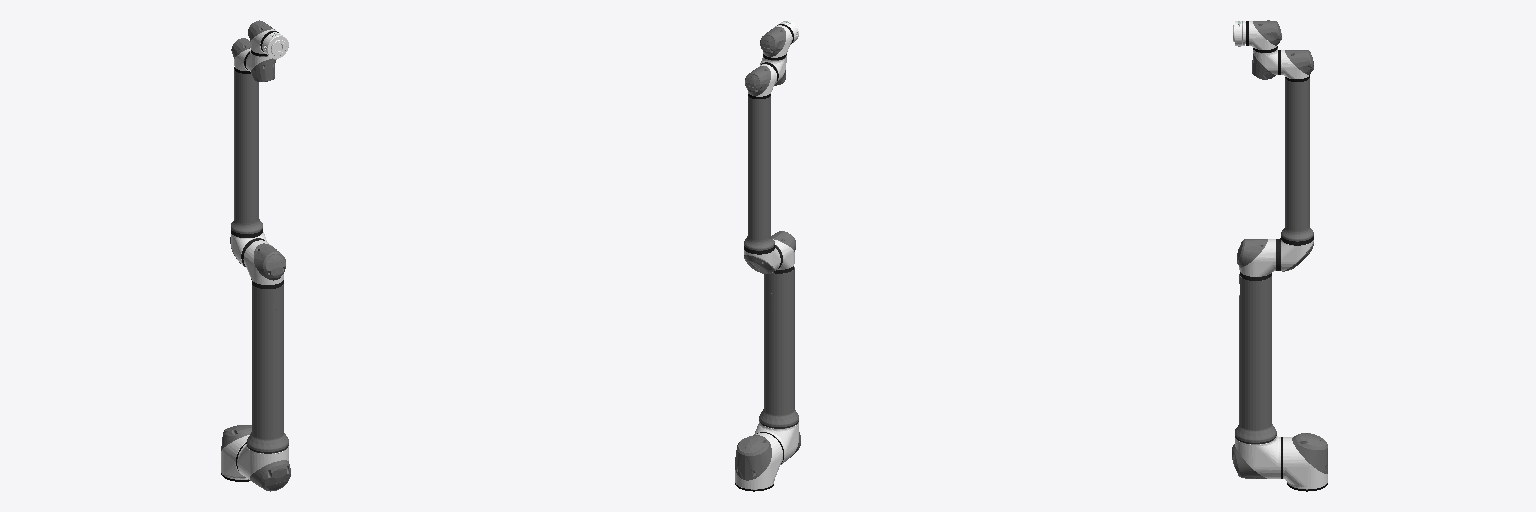
URDF robot description (rb6_1700e_u):
<?xml version="1.0" ?>
<!-- =================================================================================== -->
<!-- |    This document was autogenerated by xacro from rb6_1700e_u.urdf.xacro         | -->
<!-- |    EDITING THIS FILE BY HAND IS NOT RECOMMENDED                                 | -->
<!-- =================================================================================== -->
<robot name="rb6_1700e_u">
  <link name="link0">
    <visual>
      <geometry>
        <mesh filename="package://rbpodo_description/meshes/rb6_1700e_u/visual/link0.dae"/>
      </geometry>
    </visual>
    <collision>
      <geometry>
        <mesh filename="package://rbpodo_description/meshes/rb6_1700e_u/collision/link0.stl"/>
      </geometry>
    </collision>
  </link>
  <link name="link1">
    <visual>
      <geometry>
        <mesh filename="package://rbpodo_description/meshes/rb6_1700e_u/visual/link1.dae"/>
      </geometry>
    </visual>
    <collision>
      <geometry>
        <mesh filename="package://rbpodo_description/meshes/rb6_1700e_u/collision/link1.stl"/>
      </geometry>
    </collision>
    <inertial>
      <origin rpy="0 0 0" xyz="0.000022 -0.008087 -0.042227"/>
      <mass value="8.356"/>
      <inertia ixx="0.027492394" ixy="-5.675e-06" ixz="-1.0003e-05" iyy="0.027770576" iyz="0.003088853" izz="0.026245784"/>
    </inertial>
  </link>
  <link name="link2">
    <visual>
      <geometry>
        <mesh filename="package://rbpodo_description/meshes/rb6_1700e_u/visual/link2.dae"/>
      </geometry>
    </visual>
    <collision>
      <geometry>
        <mesh filename="package://rbpodo_description/meshes/rb6_1700e_u/collision/link2.stl"/>
      </geometry>
    </collision>
    <inertial>
      <origin rpy="0 0 0" xyz="-0.000012 0.030051 0.30427"/>
      <mass value="16.542"/>
      <inertia ixx="2.064684886" ixy="-1.2583e-05" ixz="-7.8349e-05" iyy="2.087602443" iyz="0.034272843" izz="0.054672987"/>
    </inertial>
  </link>
  <link name="link3">
    <visual>
      <geometry>
        <mesh filename="package://rbpodo_description/meshes/rb6_1700e_u/visual/link3.dae"/>
      </geometry>
    </visual>
    <collision>
      <geometry>
        <mesh filename="package://rbpodo_description/meshes/rb6_1700e_u/collision/link3.stl"/>
      </geometry>
    </collision>
    <inertial>
      <origin rpy="0 0 0" xyz="-0.000052 0.139099 0.433734"/>
      <mass value="6.431"/>
      <inertia ixx="0.618762051" ixy="1.0397e-05" ixz="5.105e-05" iyy="0.617886626" iyz="0.007702789" izz="0.012854901"/>
    </inertial>
  </link>
  <link name="link4">
    <visual>
      <geometry>
        <mesh filename="package://rbpodo_description/meshes/rb6_1700e_u/visual/link4.dae"/>
      </geometry>
    </visual>
    <collision>
      <geometry>
        <mesh filename="package://rbpodo_description/meshes/rb6_1700e_u/collision/link4.stl"/>
      </geometry>
    </collision>
    <inertial>
      <origin rpy="0 0 0" xyz="0.000124 -0.113978 0.026418"/>
      <mass value="2.066"/>
      <inertia ixx="0.002724762" ixy="-3.11e-07" ixz="1.3522e-05" iyy="0.002726881" iyz="0.000142385" izz="0.002178559"/>
    </inertial>
  </link>
  <link name="link5">
    <visual>
      <geometry>
        <mesh filename="package://rbpodo_description/meshes/rb6_1700e_u/visual/link5.dae"/>
      </geometry>
    </visual>
    <collision>
      <geometry>
        <mesh filename="package://rbpodo_description/meshes/rb6_1700e_u/collision/link5.stl"/>
      </geometry>
    </collision>
    <inertial>
      <origin rpy="0 0 0" xyz="-0.000124 -0.026397 0.113946"/>
      <mass value="2.065"/>
      <inertia ixx="0.002721032" ixy="1.3518e-05" ixz="3.87e-07" iyy="0.002175641" iyz="0.000139695" izz="0.002724543"/>
    </inertial>
  </link>
  <link name="link6">
    <visual>
      <geometry>
        <mesh filename="package://rbpodo_description/meshes/rb6_1700e_u/visual/link6.dae"/>
      </geometry>
    </visual>
    <collision>
      <geometry>
        <mesh filename="package://rbpodo_description/meshes/rb6_1700e_u/collision/link6.stl"/>
      </geometry>
    </collision>
    <inertial>
      <origin rpy="0 0 0" xyz="-0.000208 -0.092542 -0.000292"/>
      <mass value="0.406"/>
      <inertia ixx="0.000345291" ixy="5.72e-07" ixz="6.61e-07" iyy="0.000532783" iyz="-5.4e-08" izz="0.000339905"/>
    </inertial>
  </link>
  <link name="tcp"/>
  <joint name="base" type="revolute">
    <origin rpy="0 0 0" xyz="0 0 0.197"/>
    <parent link="link0"/>
    <child link="link1"/>
    <axis xyz="0 0 1"/>
    <limit effort="10" lower="-3.14" upper="3.14" velocity="3.14"/>
  </joint>
  <joint name="shoulder" type="revolute">
    <origin rpy="0 0 0" xyz="0 -0.1875 0"/>
    <parent link="link1"/>
    <child link="link2"/>
    <axis xyz="0 1 0"/>
    <limit effort="10" lower="-3.14" upper="3.14" velocity="3.14"/>
  </joint>
  <joint name="elbow" type="revolute">
    <origin rpy="0 0 0" xyz="0 0 0.8127"/>
    <parent link="link2"/>
    <child link="link3"/>
    <axis xyz="0 1 0"/>
    <limit effort="10" lower="-3.14" upper="3.14" velocity="3.14"/>
  </joint>
  <joint name="wrist1" type="revolute">
    <origin rpy="0 0 0" xyz="0 0.1514 0.77015"/>
    <parent link="link3"/>
    <child link="link4"/>
    <axis xyz="0 1 0"/>
    <limit effort="10" lower="-3.14" upper="3.14" velocity="3.14"/>
  </joint>
  <joint name="wrist2" type="revolute">
    <origin rpy="0 0 0" xyz="0 -0.11715 0"/>
    <parent link="link4"/>
    <child link="link5"/>
    <axis xyz="0 0 1"/>
    <limit effort="10" lower="-3.14" upper="3.14" velocity="3.14"/>
  </joint>
  <joint name="wrist3" type="revolute">
    <origin rpy="0 0 0" xyz="0 0 0.11715"/>
    <parent link="link5"/>
    <child link="link6"/>
    <axis xyz="0 1 0"/>
    <limit effort="10" lower="-3.14" upper="3.14" velocity="3.14"/>
  </joint>
  <joint name="tcp_joint" type="fixed">
    <origin rpy="0 0 0" xyz="0 -0.1153 0"/>
    <parent link="link6"/>
    <child link="tcp"/>
  </joint>
  <ros2_control name="RBPodoHardwareInterface" type="system">
    <hardware>
      <plugin>rbpodo_hardware/RBPodoHardwareInterface</plugin>
      <param name="cb_simulation">True</param>
      <param name="robot_ip">10.0.2.7</param>
    </hardware>
    <joint name="base">
      <param name="initial_position">0.0</param>
      <param name="torque_constant">1</param>
      <command_interface name="effort"/>
      <command_interface name="velocity"/>
      <command_interface name="position"/>
      <state_interface name="position"/>
      <state_interface name="effort"/>
    </joint>
    <joint name="shoulder">
      <param name="initial_position">0.0</param>
      <param name="torque_constant">1</param>
      <command_interface name="effort"/>
      <command_interface name="velocity"/>
      <command_interface name="position"/>
      <state_interface name="position"/>
      <state_interface name="effort"/>
    </joint>
    <joint name="elbow">
      <param name="initial_position">0.0</param>
      <param name="torque_constant">1</param>
      <command_interface name="effort"/>
      <command_interface name="velocity"/>
      <command_interface name="position"/>
      <state_interface name="position"/>
      <state_interface name="effort"/>
    </joint>
    <joint name="wrist1">
      <param name="initial_position">0.0</param>
      <param name="torque_constant">1</param>
      <command_interface name="effort"/>
      <command_interface name="velocity"/>
      <command_interface name="position"/>
      <state_interface name="position"/>
      <state_interface name="effort"/>
    </joint>
    <joint name="wrist2">
      <param name="initial_position">0.0</param>
      <param name="torque_constant">1</param>
      <command_interface name="effort"/>
      <command_interface name="velocity"/>
      <command_interface name="position"/>
      <state_interface name="position"/>
      <state_interface name="effort"/>
    </joint>
    <joint name="wrist3">
      <param name="initial_position">0.0</param>
      <param name="torque_constant">1</param>
      <command_interface name="effort"/>
      <command_interface name="velocity"/>
      <command_interface name="position"/>
      <state_interface name="position"/>
      <state_interface name="effort"/>
    </joint>
  </ros2_control>
</robot>

--- What the picture shows (computed from the rendered views, not written in the file) ---
3 views of the same robot in one strip: view 1: azimuth 30°, elevation 25°; view 2: azimuth 150°, elevation 25°; view 3: azimuth 270°, elevation 25° (orthographic).
Model rb6_1700e_u with 8 links and 7 joints (6 revolute, 1 fixed), rooted at link0, posed all joints at 0.
Visible links, largest first — view 1: link2, link3, link1, link4, link6, link5; view 2: link2, link3, link1, link5; view 3: link2, link3, link1, link5, link4.
Boxes of the visible links, x1,y1,x2,y2 form: link2: (236, 238, 290, 491); link3: (230, 38, 266, 266); link1: (221, 425, 251, 481); link4: (246, 50, 275, 81); link6: (262, 32, 288, 59); link5: (248, 20, 278, 53); link2: (754, 231, 800, 464); link3: (744, 62, 780, 273); link1: (735, 433, 782, 491); link5: (760, 24, 793, 57); link2: (1232, 238, 1282, 478); link3: (1278, 50, 1313, 271); link1: (1283, 433, 1327, 491); link5: (1246, 20, 1281, 49); link4: (1252, 46, 1277, 79).
Size in the robot's own frame: 0.152 by 0.3513 by 1.85 metres.
Meshes: 7 distinct files referenced, 6 mesh visuals loaded (6 Collada DAE); not drawn: 1 (reference not matched to a file when rendering).
